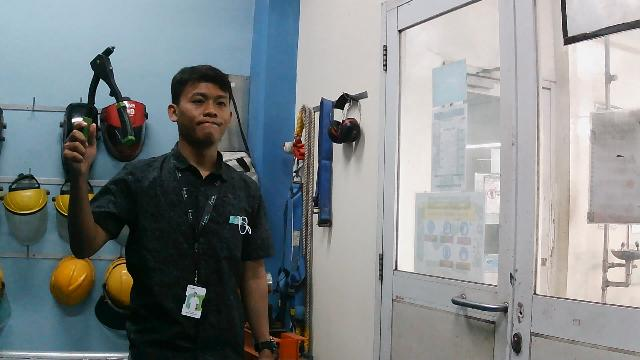tang_rivet: (75, 43, 139, 152)
